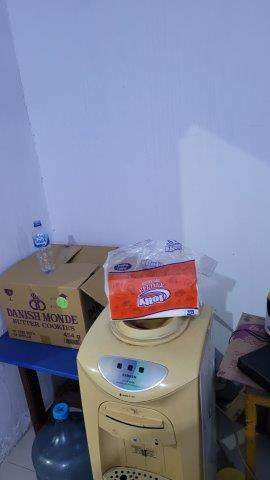botolplastik: (31, 221, 56, 273)
